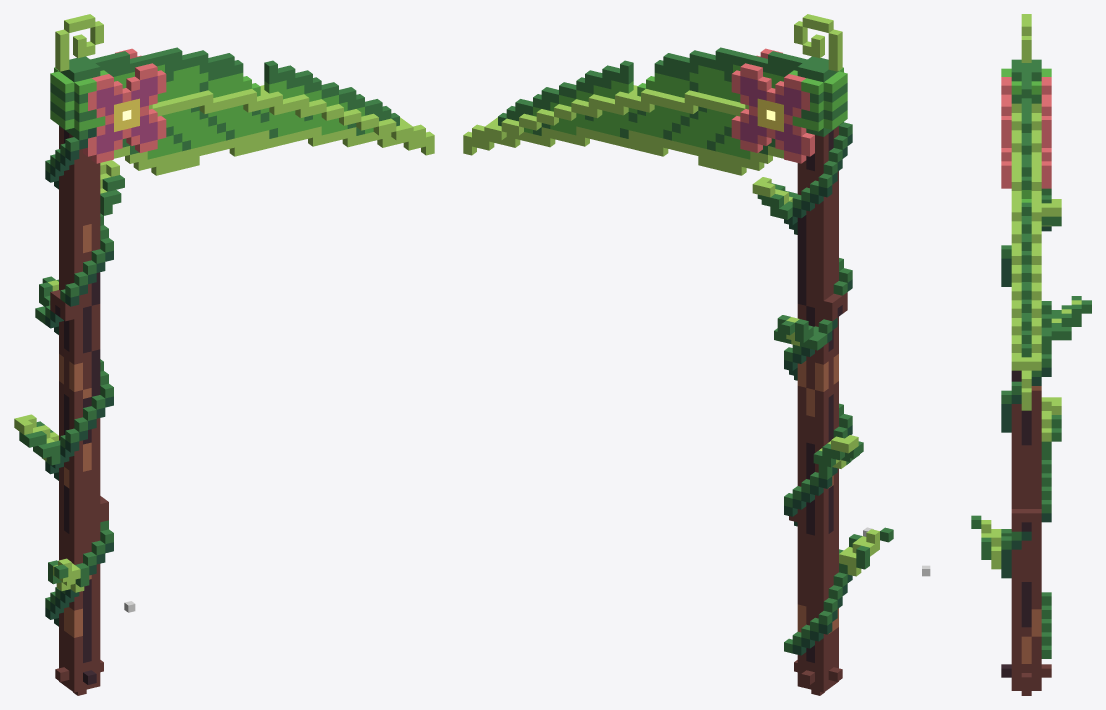
File: VineScythe.fbx
3 renders of one model, left to right at view 1: azimuth 30°, elevation 25°; view 2: azimuth 150°, elevation 25°; view 3: azimuth 270°, elevation 25°, orthographic.
Parts seen in each view (by area): view 1: bark, leaf_d, leaf_l, leaf, petal, leaf_dd, bark_d, petal_d, bark_l, banana; view 2: leaf_d, bark, leaf_l, leaf, petal, leaf_dd, bark_d, petal_d, bark_l, banana; view 3: leaf_d, leaf_l, bark, petal, leaf_dd, bark_d, bark_l, leaf.
Part boxes in pixels (x1,y1,x2,y2): bark: (50, 126, 108, 695); leaf_d: (19, 47, 399, 610); leaf_l: (14, 14, 434, 592); leaf: (50, 64, 373, 159); petal: (83, 48, 166, 163); leaf_dd: (45, 127, 113, 626); bark_d: (55, 130, 100, 684); petal_d: (96, 76, 157, 154); bark_l: (59, 224, 91, 637); banana: (114, 98, 139, 131); leaf_d: (498, 47, 893, 653); bark: (789, 126, 847, 695); leaf_l: (463, 14, 879, 576); leaf: (524, 64, 847, 159); petal: (731, 48, 814, 163); leaf_dd: (784, 134, 852, 655); bark_d: (797, 130, 842, 662); petal_d: (740, 76, 801, 154); bark_l: (797, 354, 838, 633); banana: (757, 98, 783, 131); leaf_d: (971, 59, 1091, 658); leaf_l: (981, 14, 1081, 569); bark: (1011, 390, 1051, 695); petal: (1001, 77, 1051, 188); leaf_dd: (1001, 226, 1051, 578); bark_d: (1001, 370, 1031, 677); bark_l: (1021, 386, 1041, 663); leaf: (1001, 68, 1051, 202).
Size of the model in its own units: 460 by 740 by 169.
